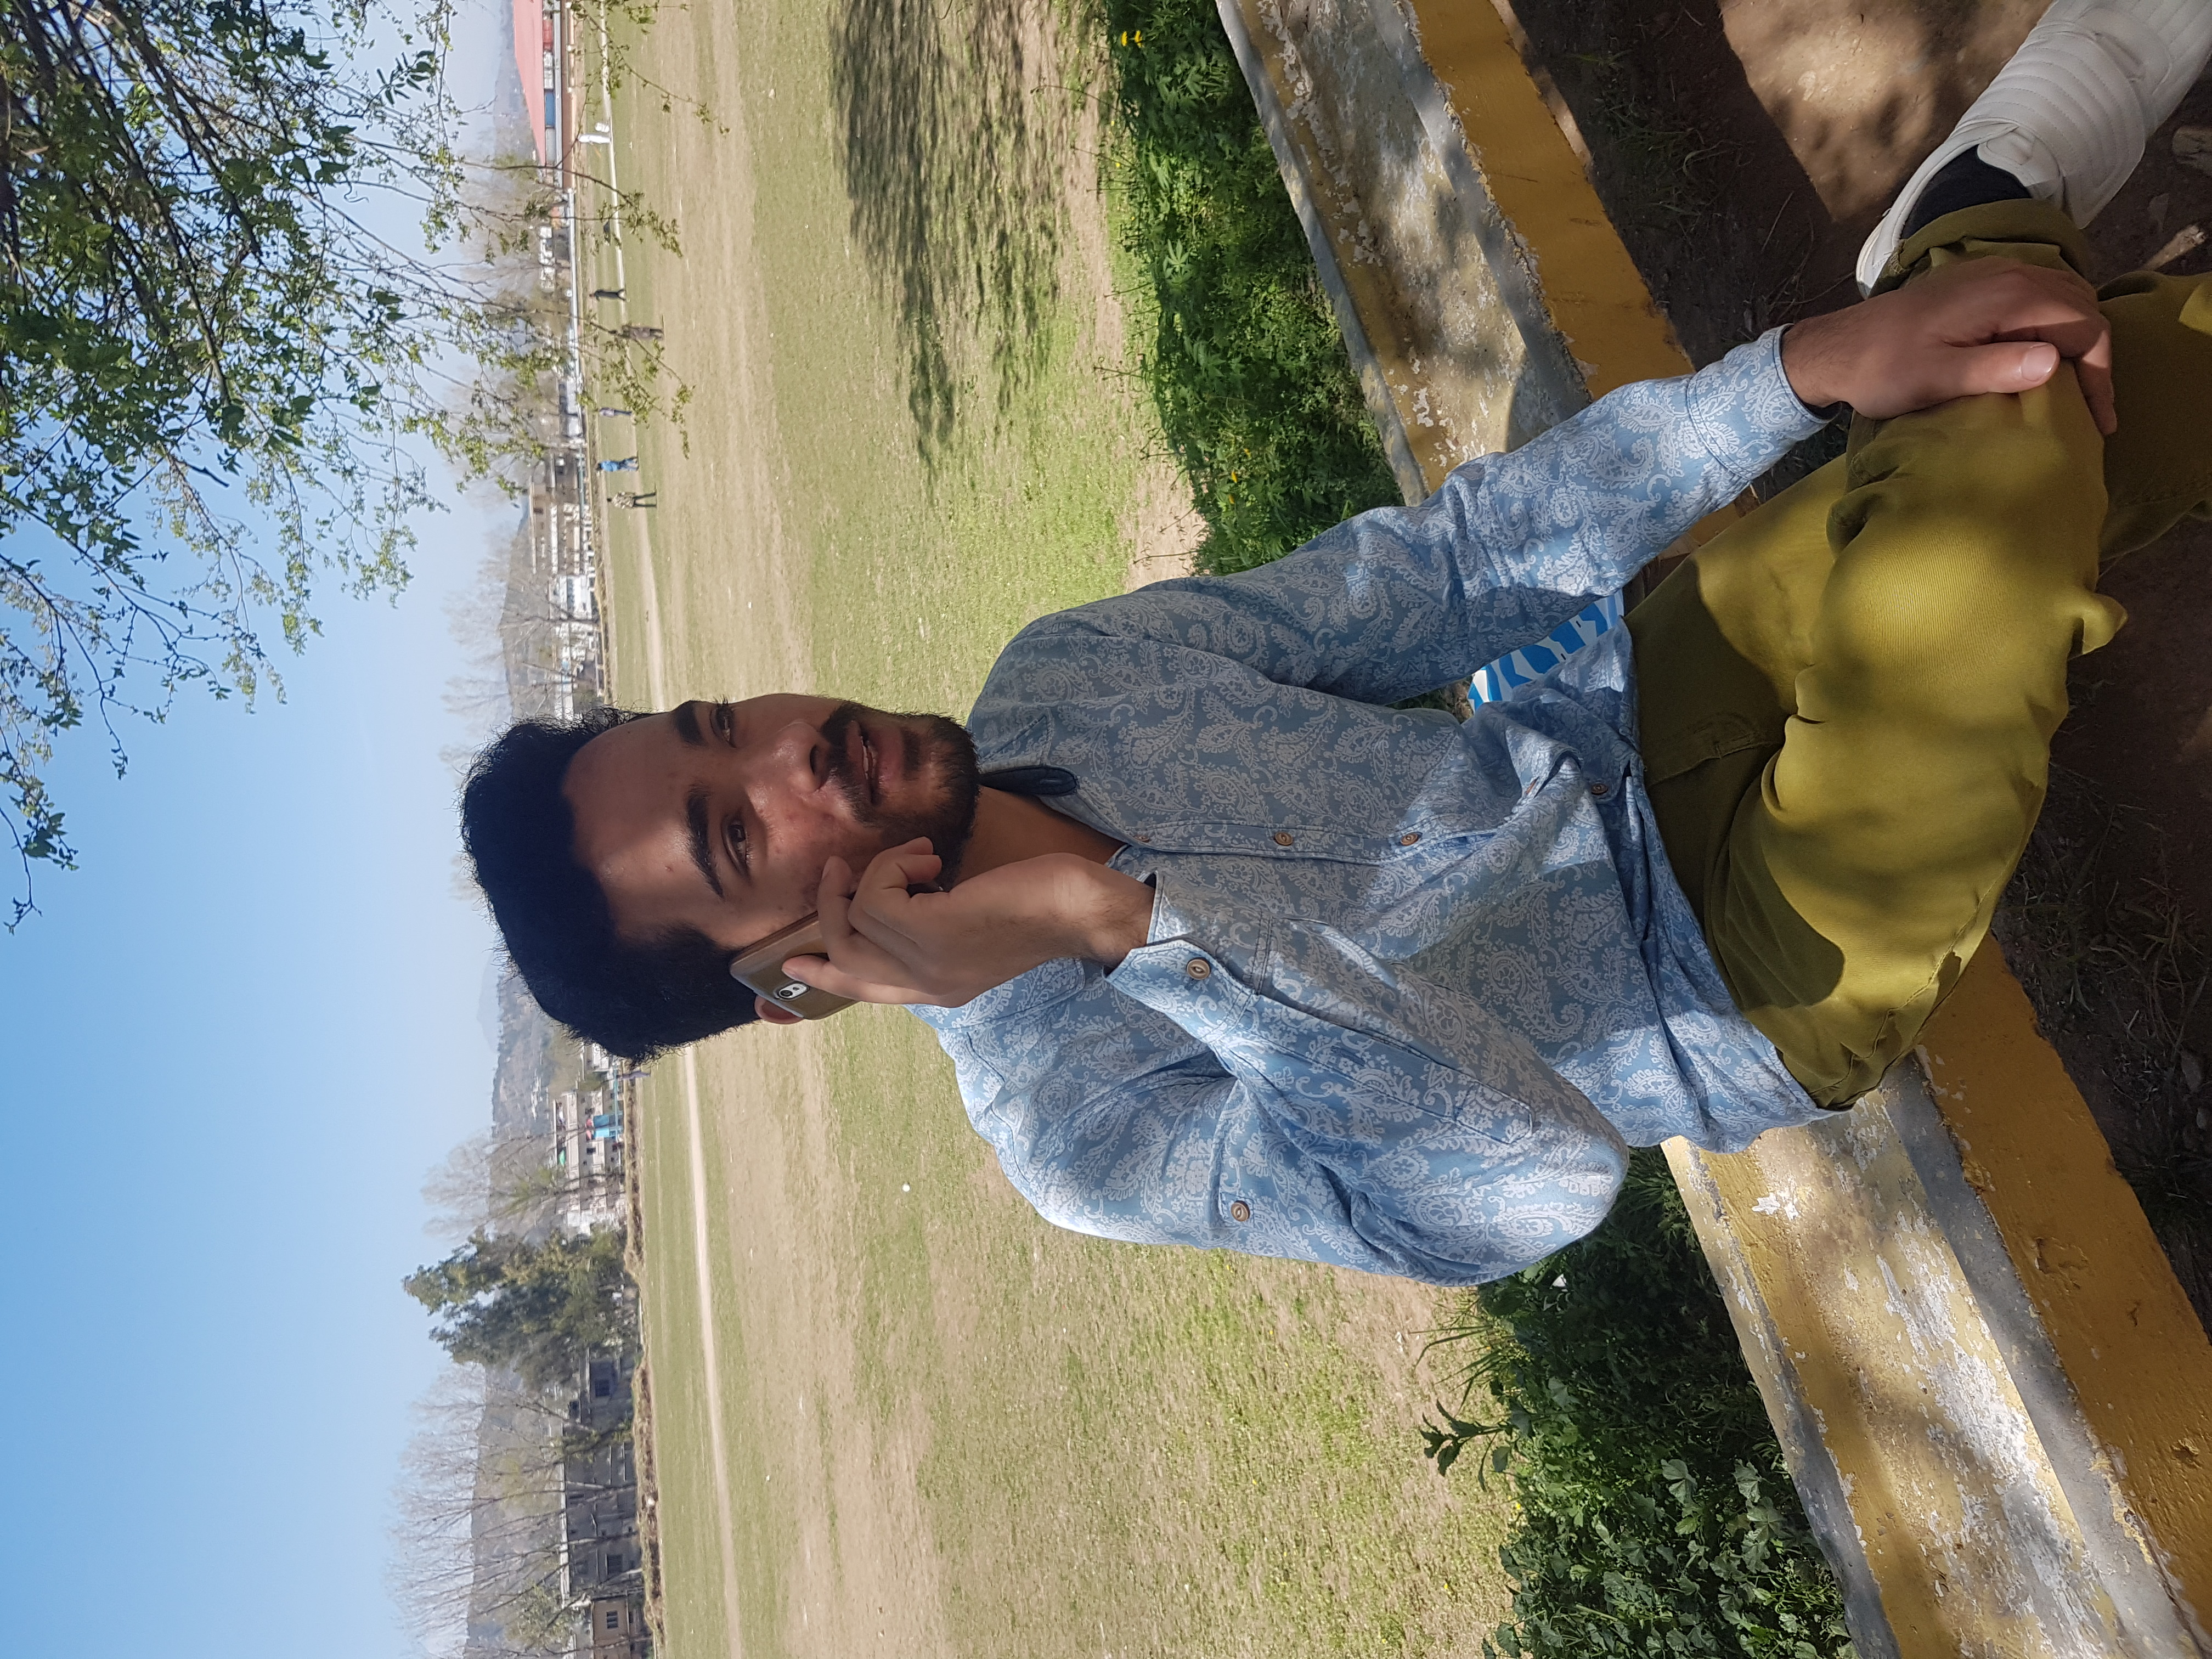face: (486, 701, 993, 930)
mobile: (712, 927, 881, 1019)
